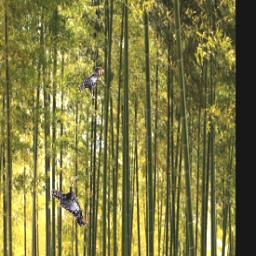Crow: (51, 176, 91, 228), (78, 66, 105, 100)
